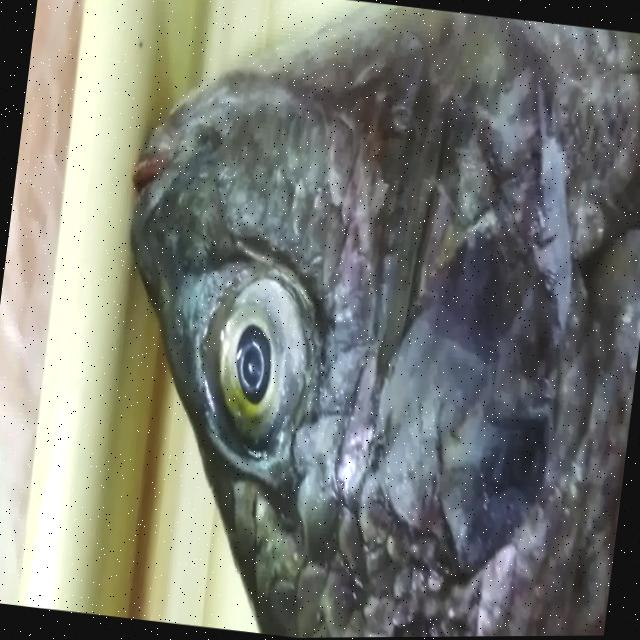Non-Fresh: (162, 205, 370, 518)
